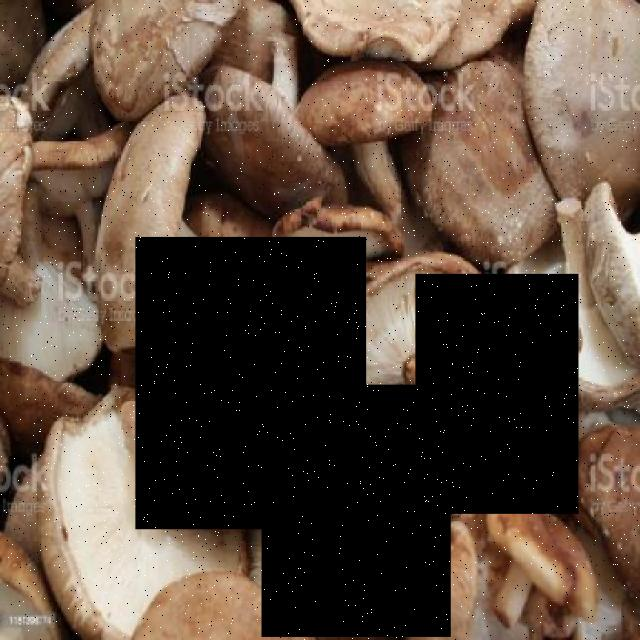Mushroom: (136, 238, 367, 530), (262, 385, 450, 637), (416, 274, 578, 514)
